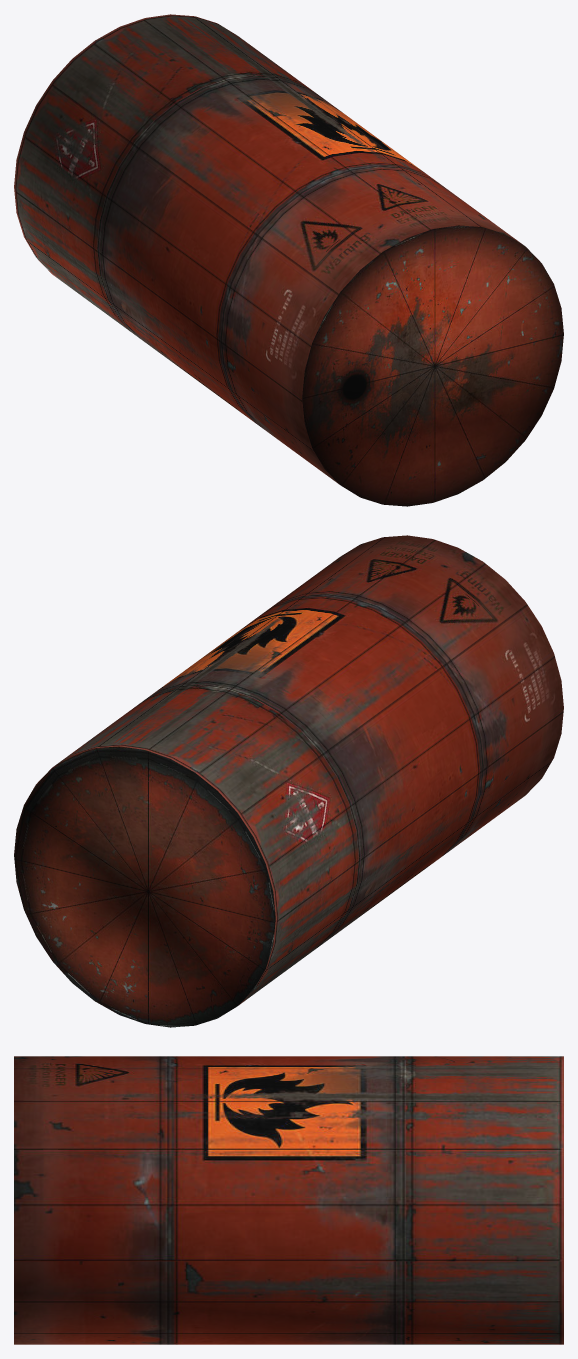
Rendered from oilBarrel.gltf.
The picture shows the model from 3 angles, top to bottom: view 1: azimuth 30°, elevation 25°; view 2: azimuth 150°, elevation 25°; view 3: azimuth 270°, elevation 25°; orthographic projection. The views are drawn at different scales.
Parts seen in each view (by area): view 1: Cylinder; view 2: Cylinder; view 3: Cylinder.
Boxes of the visible parts, <box> form: Cylinder: <box>14,14,563,506</box>; Cylinder: <box>14,535,563,1027</box>; Cylinder: <box>14,1056,563,1344</box>.
Bounding box in the file's own units: 0.6638 × 0.6638 × 1.27.
1 material, 1 textured.
